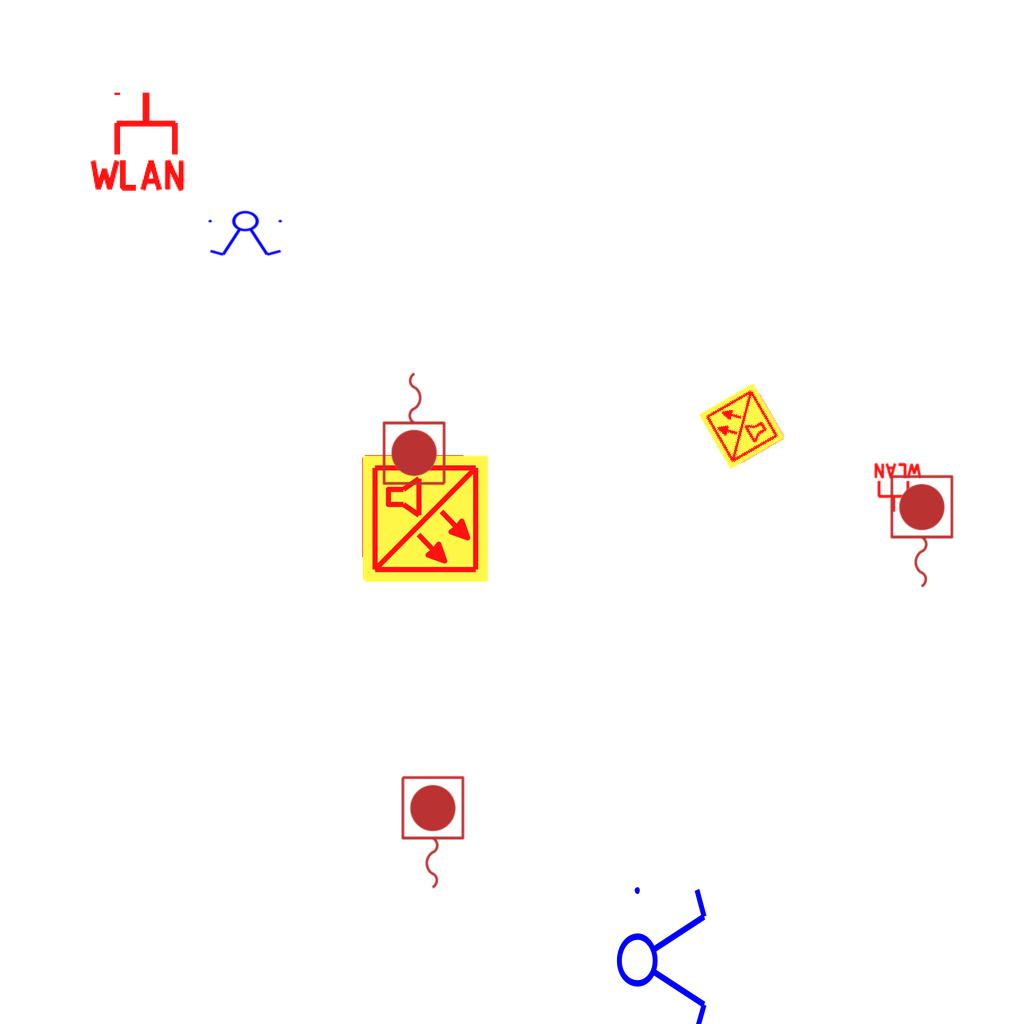OKW_Multisensormelder_(Kombination_optischer_Rauch-Kahlenmonoxid_Waerme-Melder): (359, 453, 491, 585), (696, 380, 788, 472)
Serienschalter: (615, 875, 711, 1024), (204, 210, 288, 258)
WLAN: (85, 88, 189, 193), (872, 462, 924, 514)
Zugtaster: (396, 772, 468, 894), (379, 367, 451, 489), (885, 471, 957, 593)
